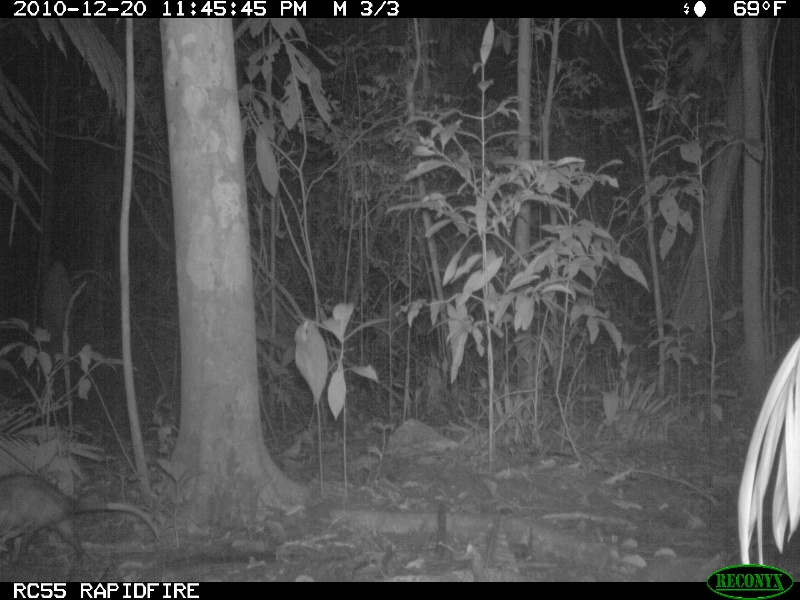opossum: (1, 467, 166, 566)
